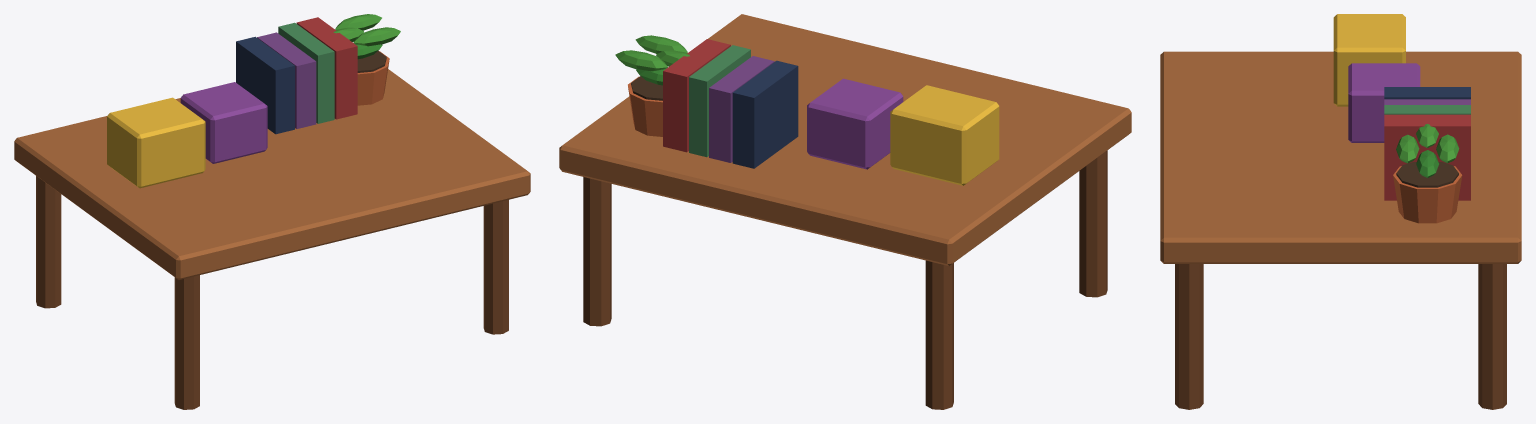
Rendered from low_shelf.glb.
3 renders of one model, left to right at view 1: azimuth 30°, elevation 25°; view 2: azimuth 150°, elevation 25°; view 3: azimuth 270°, elevation 25°, orthographic. The views are drawn at different scales.
Visible parts, largest first — view 1: low_shelf; view 2: low_shelf; view 3: low_shelf.
Boxes of the visible parts, <box> form: low_shelf: <box>14,14,530,409</box>; low_shelf: <box>559,14,1131,409</box>; low_shelf: <box>1160,14,1521,409</box>.
Bounding box in the file's own units: 0.62 × 0.3852 × 0.5.
